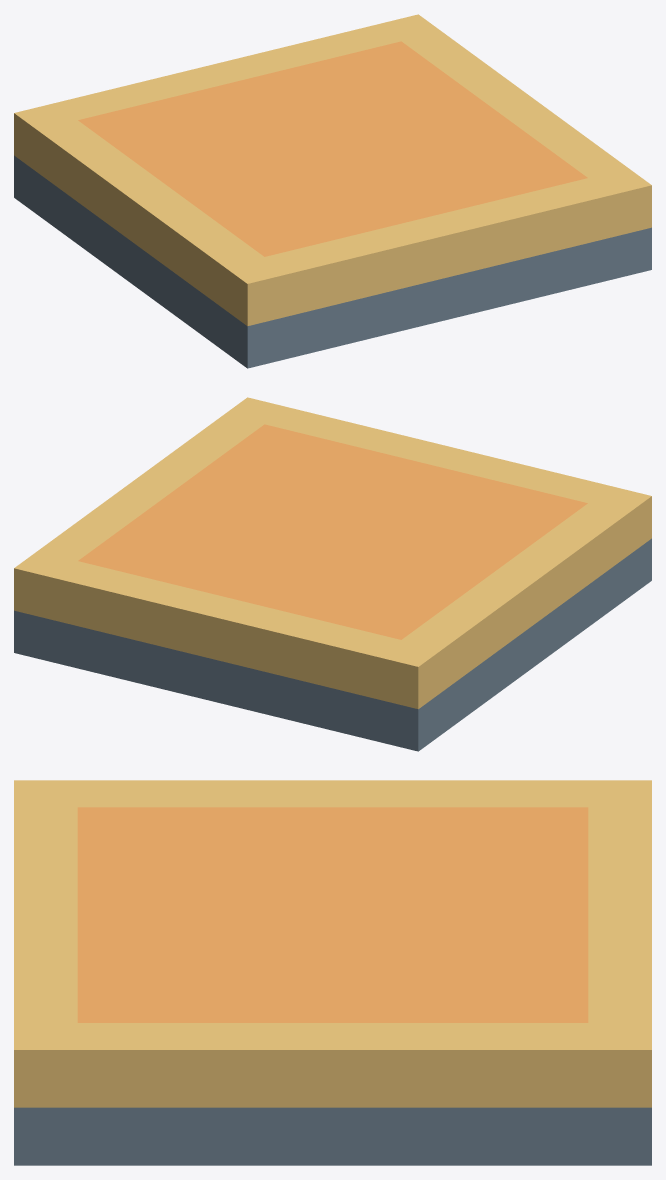
The model's file is platform1.fbx.
3 views of the same model, one above another, from view 1: azimuth 30°, elevation 25°; view 2: azimuth 150°, elevation 25°; view 3: azimuth 270°, elevation 25° (orthographic). The views are drawn at different scales.
Visible parts, largest first — view 1: 对象; view 2: 对象; view 3: 对象.
Part boxes in pixels (<box>): 对象: <box>14,14,651,368</box>; 对象: <box>14,397,651,751</box>; 对象: <box>14,780,651,1165</box>.
Size of the model in its own units: 10 by 2 by 10.
Materials: 1 (1 with a texture image).
